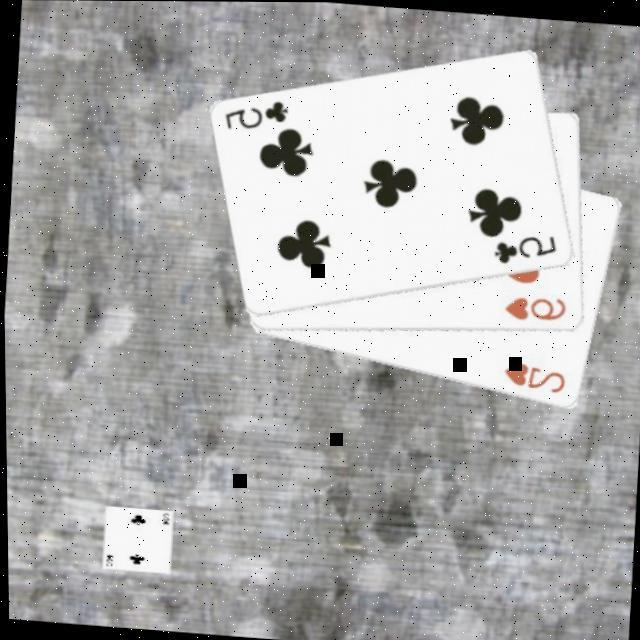2H: (497, 359, 567, 398)
5C: (219, 95, 291, 138), (488, 230, 560, 272)
6H: (498, 292, 568, 328)
